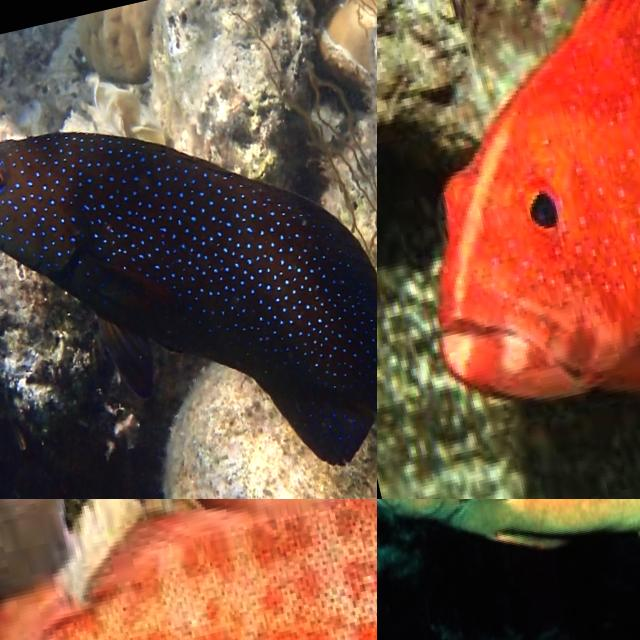Plectropomus-leopardus: (0, 4, 377, 499), (377, 0, 640, 439), (0, 499, 377, 640), (377, 499, 640, 640), (377, 12, 403, 118)
